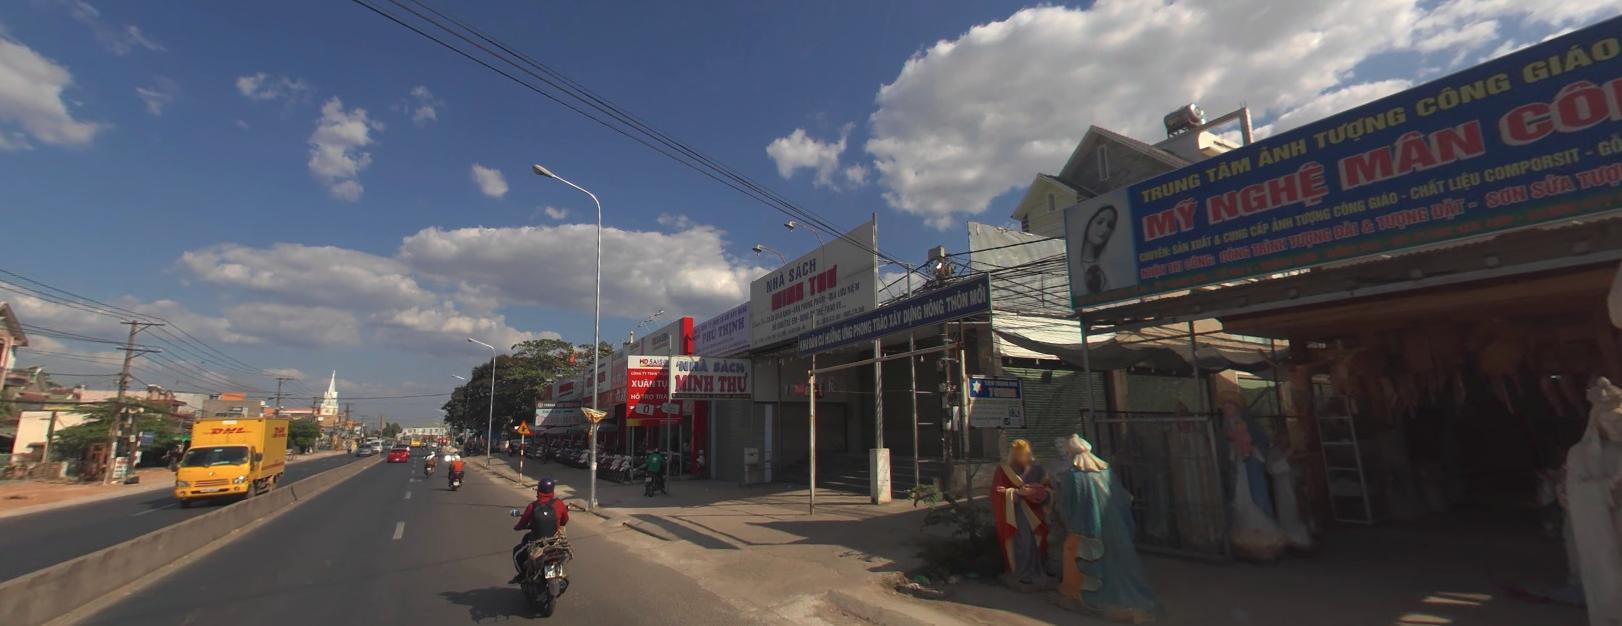Nguy hiem: (516, 418, 531, 433)
